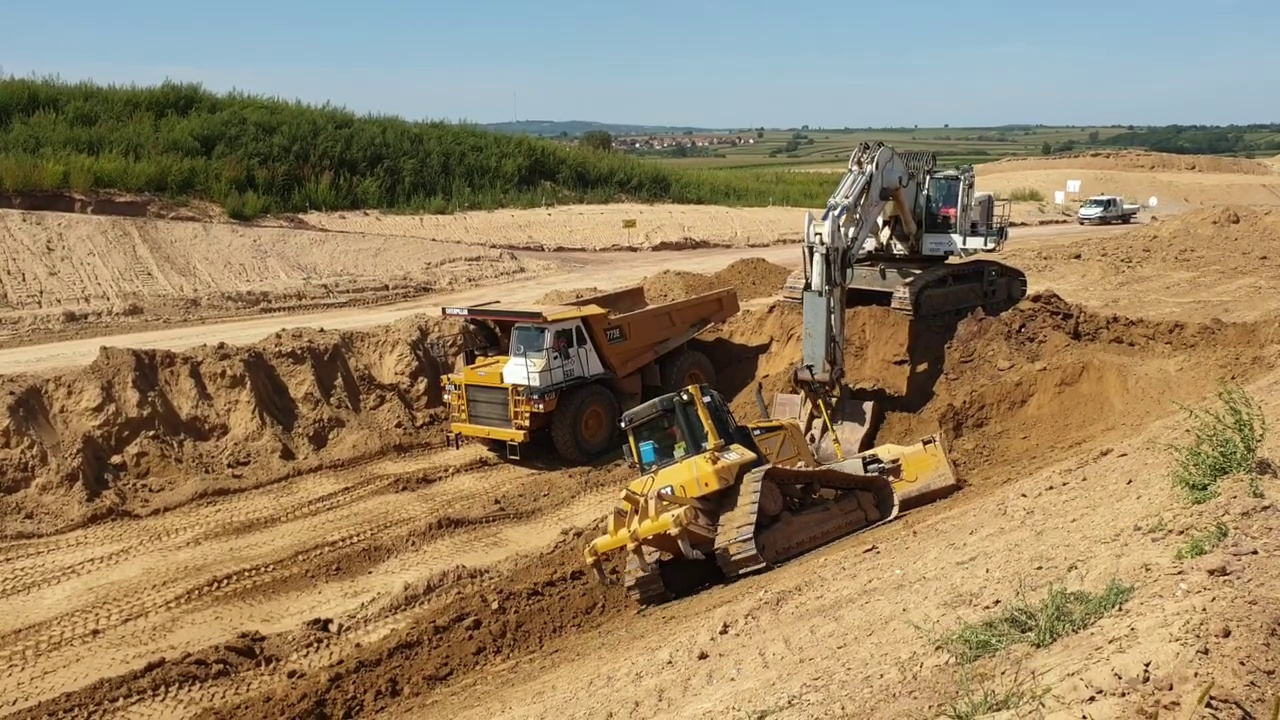bulldozer: (581, 359, 967, 610)
excavator: (761, 138, 1029, 481)
truck: (435, 282, 747, 471), (1073, 192, 1143, 233)
